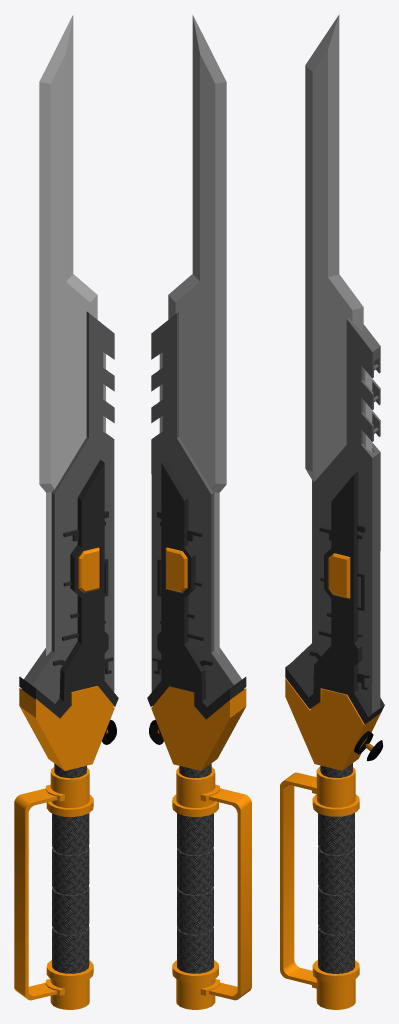
The model's file is X-Blade.fbx.
3 views of the same model, side by side, from view 1: azimuth 30°, elevation 25°; view 2: azimuth 150°, elevation 25°; view 3: azimuth 330°, elevation 25° (orthographic).
Parts seen in each view (by area): view 1: Plane.006; view 2: Plane.006; view 3: Plane.006.
Boxes of the visible parts, left/top/right/bottom form: Plane.006: left=14, top=15, right=118, bottom=1009; Plane.006: left=147, top=15, right=251, bottom=1009; Plane.006: left=280, top=14, right=384, bottom=1009.
Bounding box in the file's own units: 8.11 × 80.44 × 3.49.
6 materials, 6 textured.
